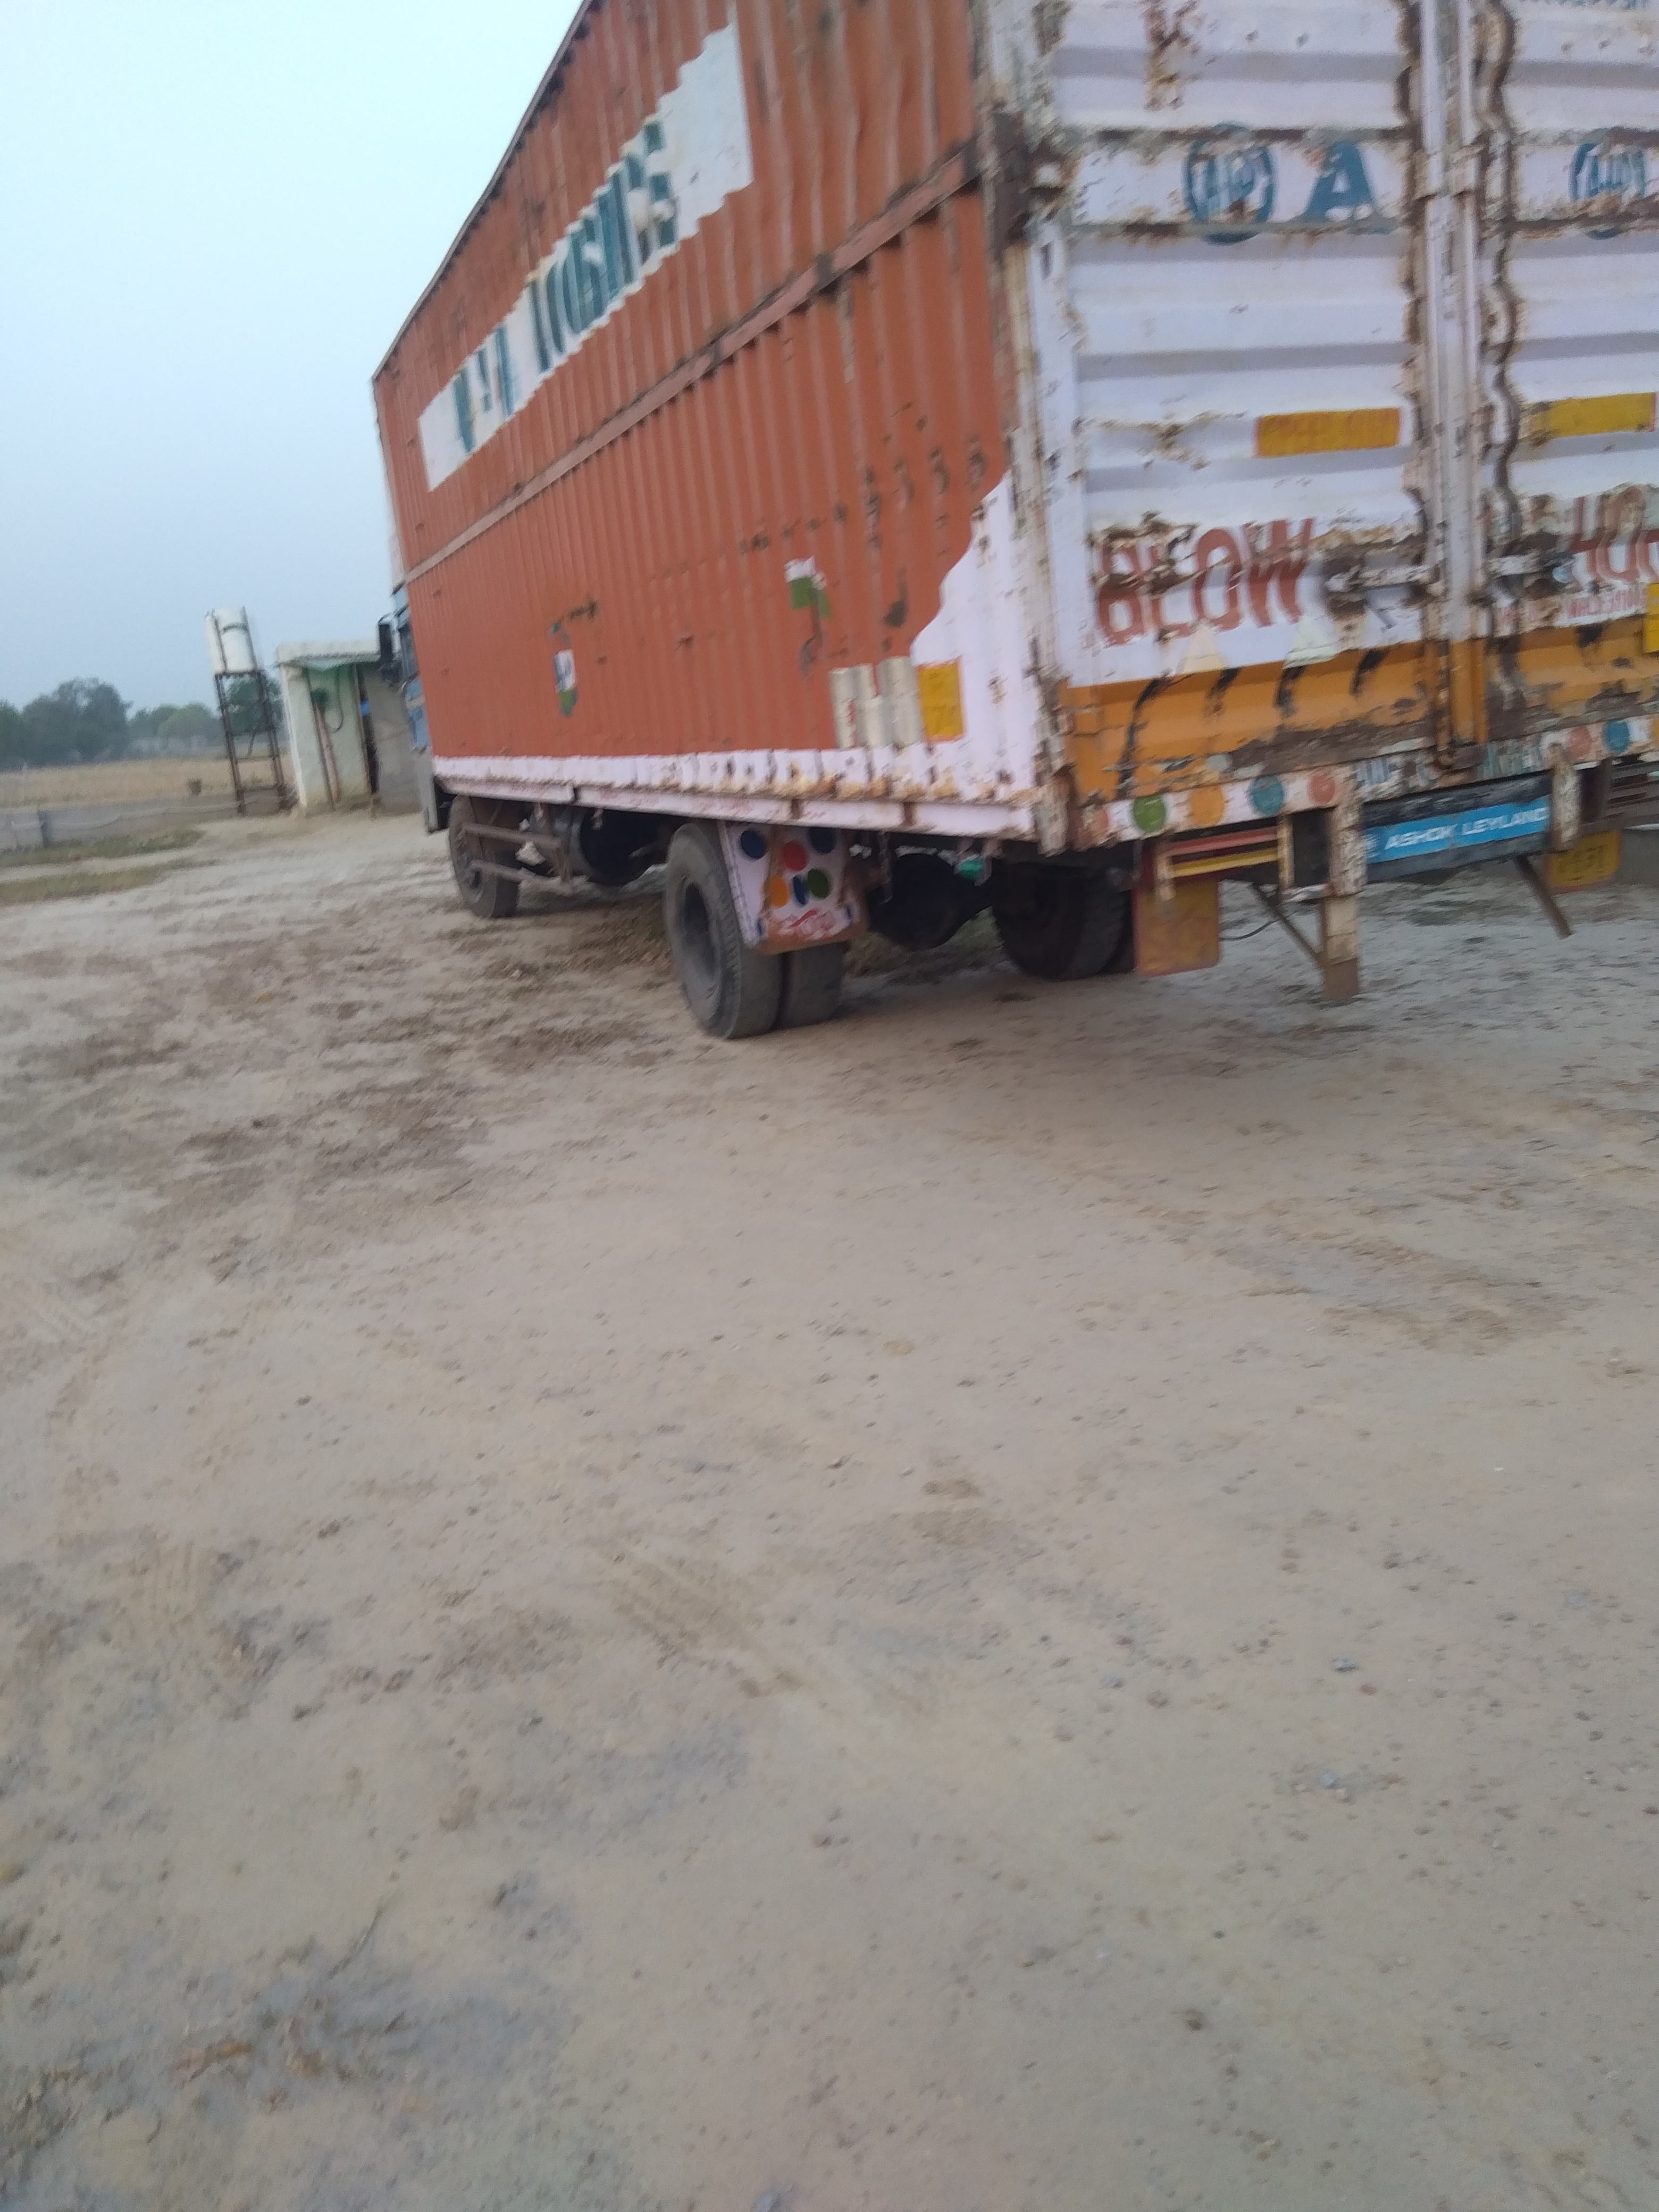truck: (362, 0, 1659, 1047)
